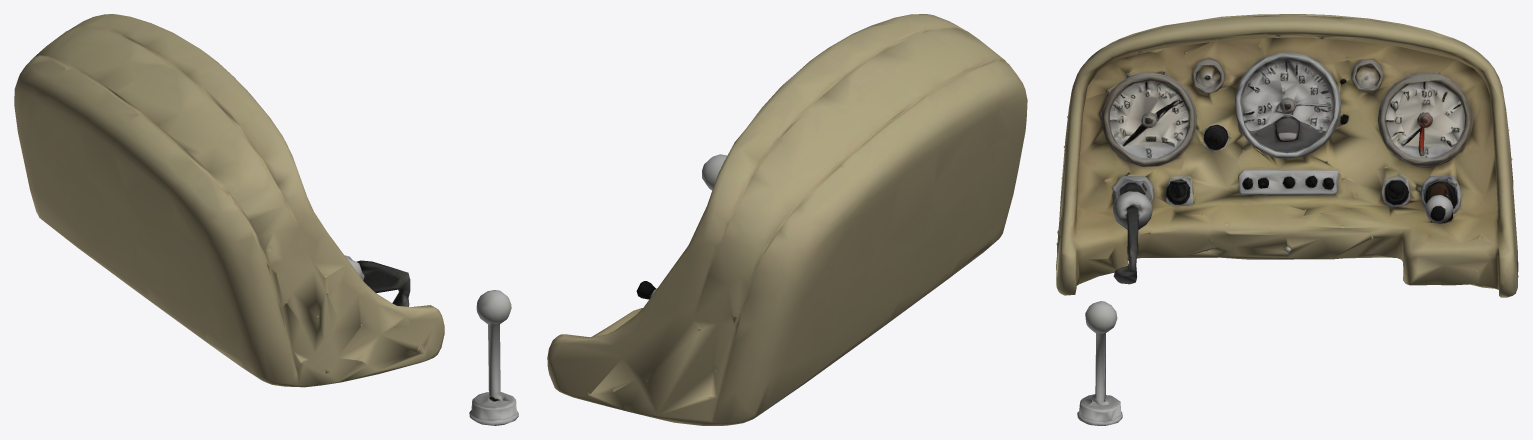
File: bus-dash.glb
The picture shows the model from 3 angles, left to right: view 1: azimuth 30°, elevation 25°; view 2: azimuth 150°, elevation 25°; view 3: azimuth 270°, elevation 25°; orthographic projection. The views are drawn at different scales.
Visible parts, largest first — view 1: tripo_node_76a22cf0-158a-4935-9fff-fbe2ee96e5f6; view 2: tripo_node_76a22cf0-158a-4935-9fff-fbe2ee96e5f6; view 3: tripo_node_76a22cf0-158a-4935-9fff-fbe2ee96e5f6.
Part boxes in pixels (x1,y1,x2,y2): tripo_node_76a22cf0-158a-4935-9fff-fbe2ee96e5f6: (14, 14, 518, 425); tripo_node_76a22cf0-158a-4935-9fff-fbe2ee96e5f6: (547, 14, 1027, 425); tripo_node_76a22cf0-158a-4935-9fff-fbe2ee96e5f6: (1056, 14, 1518, 425).
Bounding box in the file's own units: 0.7141 × 0.7372 × 0.9994.
Materials: 1 (1 with a texture image).
